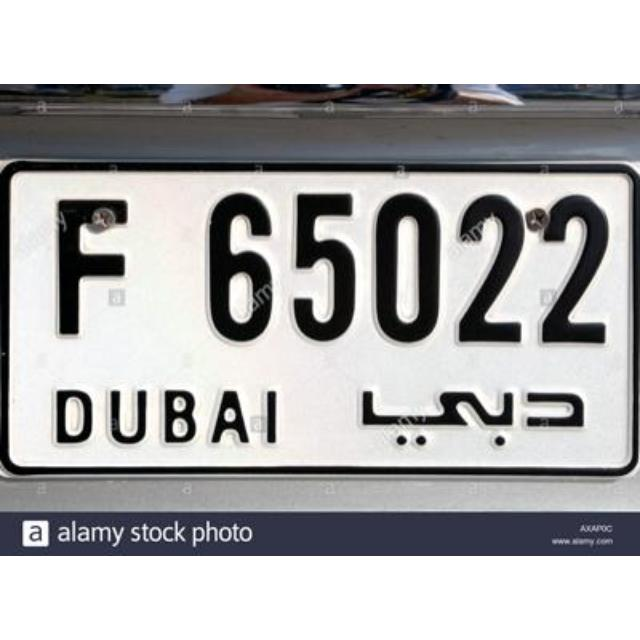plate: (45, 186, 619, 460)
